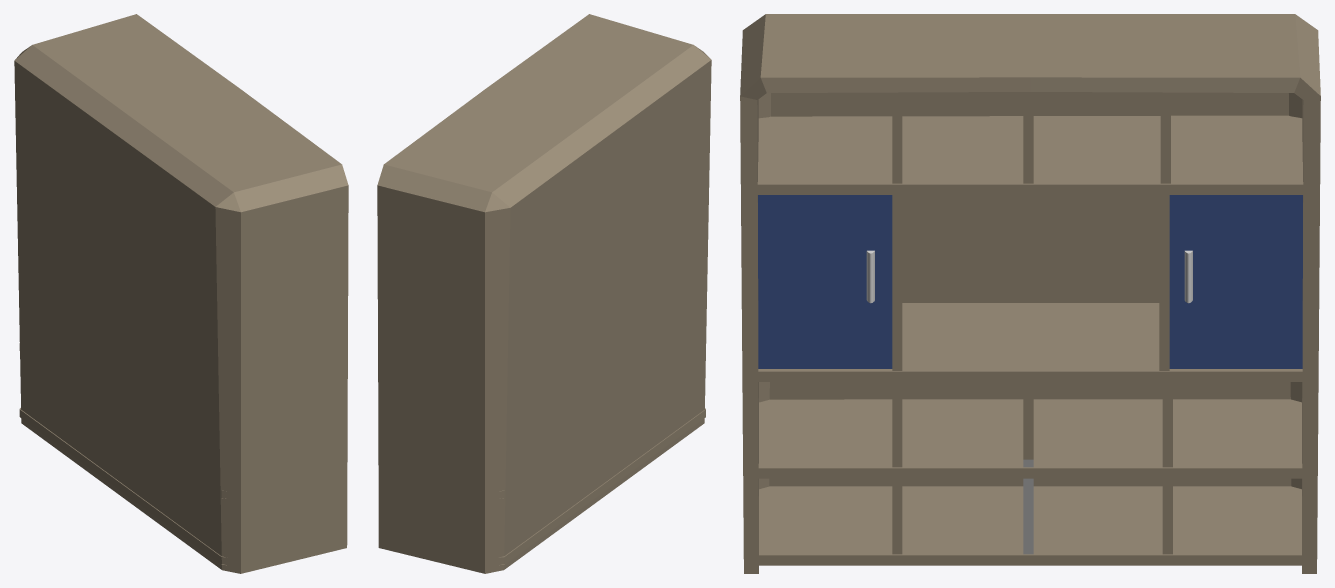
Rendered from Reol.fbx.
The picture shows the model from 3 angles, left to right: view 1: azimuth 30°, elevation 25°; view 2: azimuth 150°, elevation 25°; view 3: azimuth 270°, elevation 25°; orthographic projection. The views are drawn at different scales.
Parts seen in each view (by area): view 1: pCylinder3; view 2: pCylinder3; view 3: pCylinder3.
Part boxes in pixels (x1,y1,x2,y2): pCylinder3: (14,14,348,573); pCylinder3: (377,14,711,573); pCylinder3: (740,14,1320,573).
Bounding box in the file's own units: 6.98 × 20.05 × 21.19.
